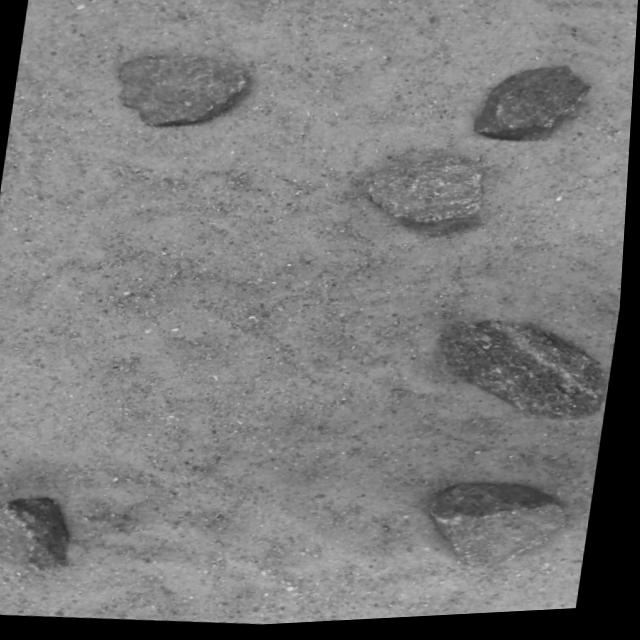rock: (444, 326, 608, 424), (435, 490, 572, 572), (118, 58, 248, 127), (474, 72, 590, 145), (365, 162, 485, 230), (0, 499, 73, 572)
